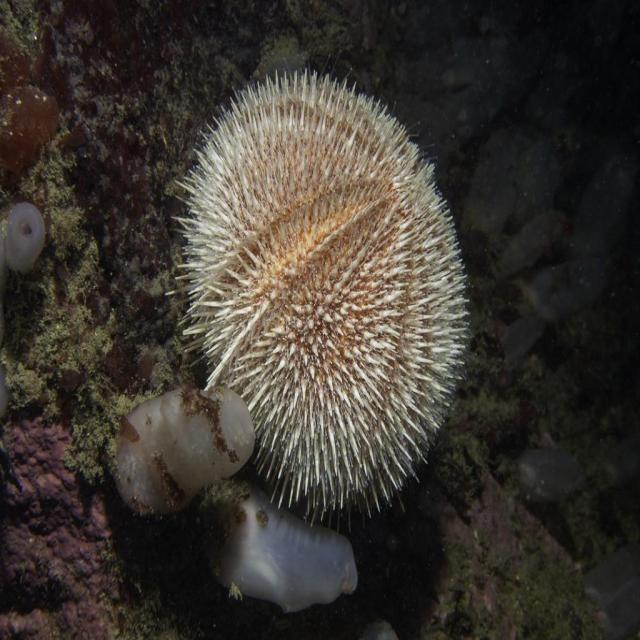Deniz Kestanesi: (169, 50, 477, 535)
